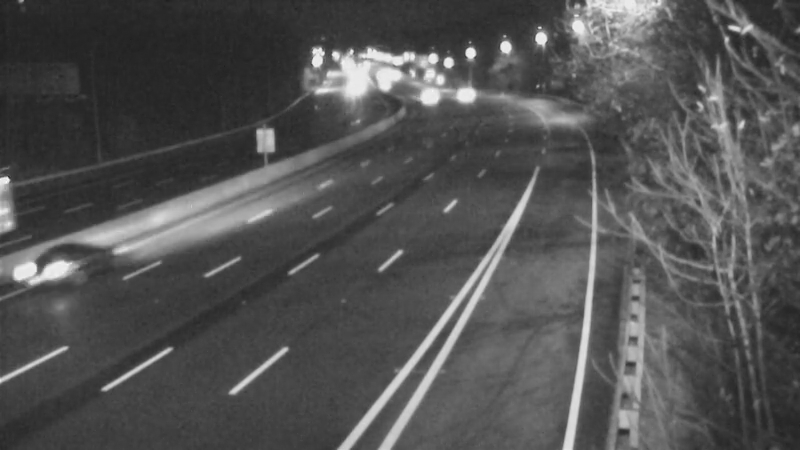vehicle: (10, 228, 90, 308), (360, 59, 410, 109), (439, 65, 489, 115), (401, 73, 451, 123)
